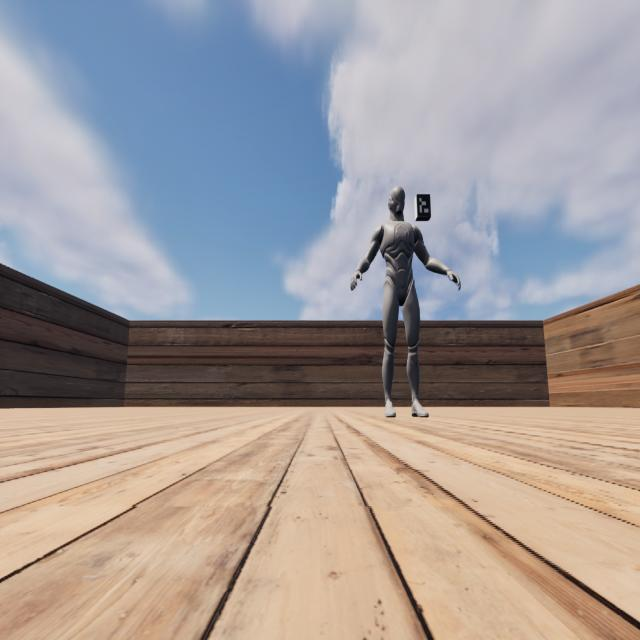aruco: (416, 194, 431, 217)
hip: (384, 278, 416, 291)
